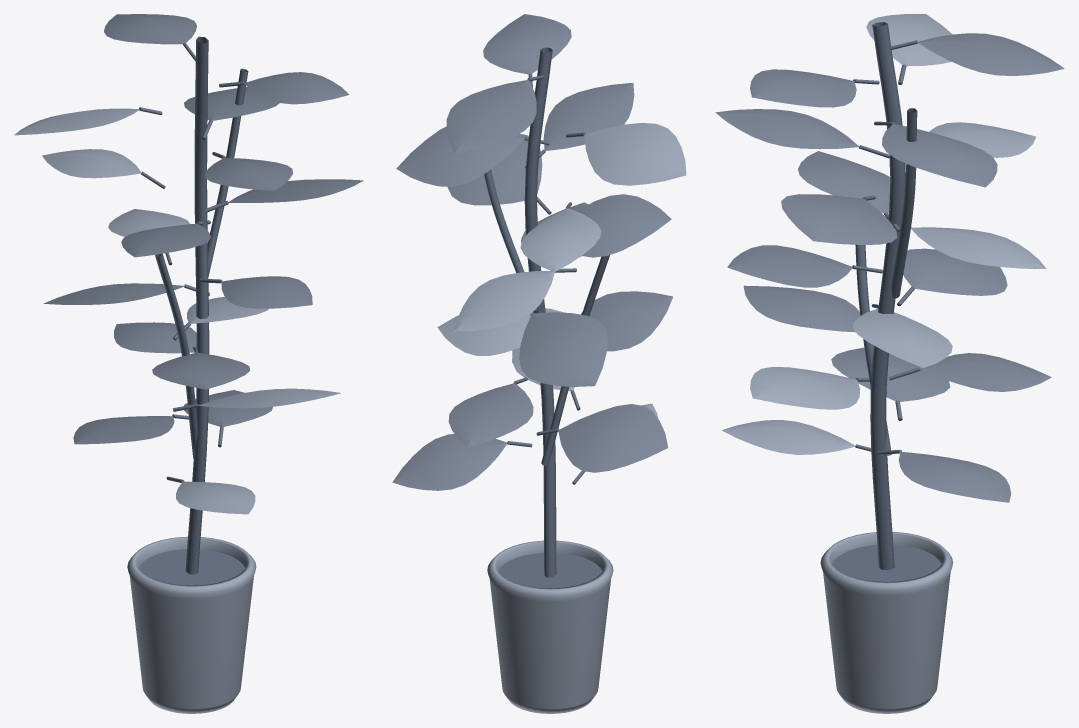
The model's file is 绿植-lite.glb.
3 renders of one model, left to right at view 1: azimuth 30°, elevation 25°; view 2: azimuth 150°, elevation 25°; view 3: azimuth 270°, elevation 25°, orthographic. The views are drawn at different scales.
Parts seen in each view (by area): view 1: light, body, soft, dark, glass; view 2: light, body, soft, dark, glass; view 3: light, soft, body, dark, glass.
Boxes of the visible parts, box(x1,y1,x2,y2) form: light: box(43, 14, 363, 444); body: box(127, 536, 256, 713); soft: box(14, 108, 340, 514); dark: box(139, 36, 248, 574); glass: box(138, 549, 244, 585); light: box(392, 14, 672, 490); body: box(487, 540, 613, 713); soft: box(437, 123, 686, 418); dark: box(484, 47, 609, 577); glass: box(498, 553, 602, 588); light: box(715, 33, 1064, 502); soft: box(722, 14, 1046, 454); body: box(820, 532, 953, 713); dark: box(852, 22, 920, 569); glass: box(832, 544, 941, 581).
Size of the model in its own units: 0.7502 by 1.6 by 0.7501.
